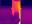Hotspot: (17, 1, 22, 23)
